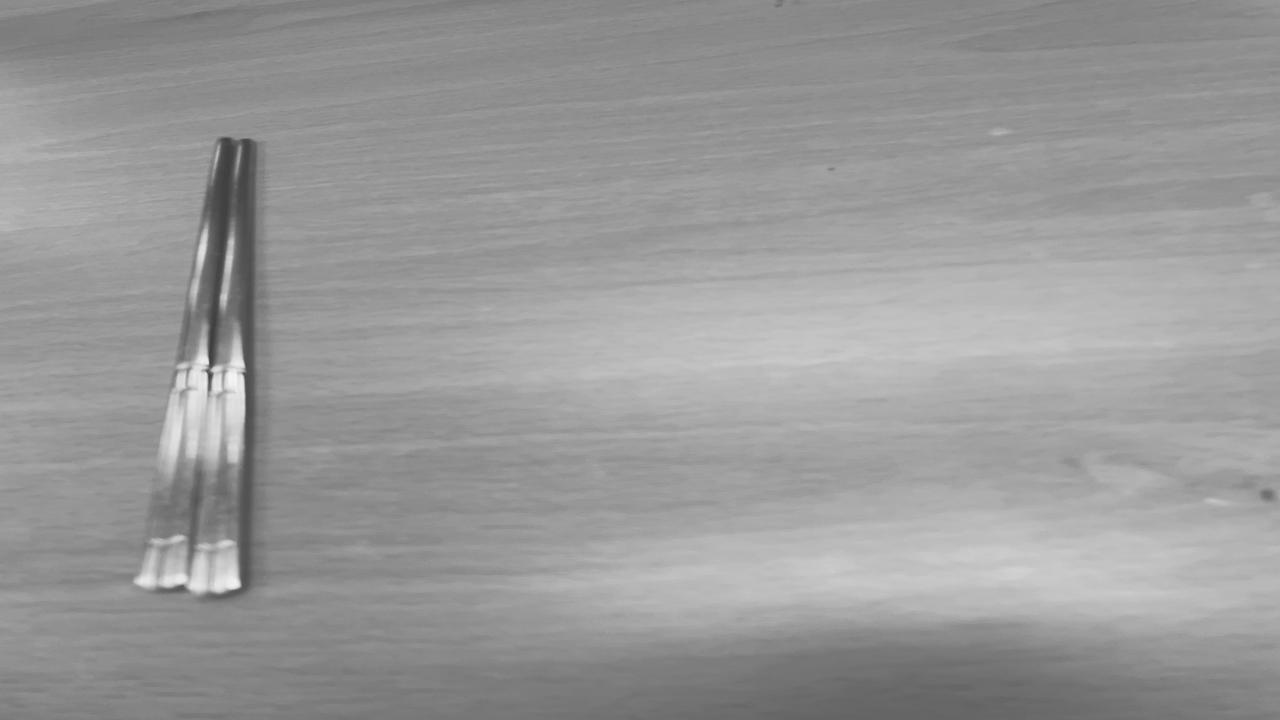chopstick: (132, 138, 252, 592)
